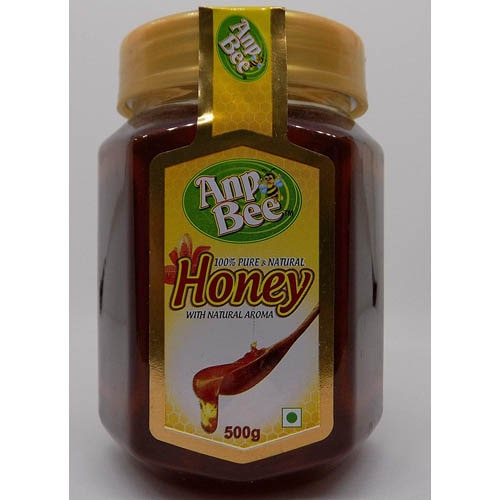JAR: (91, 1, 390, 489)
